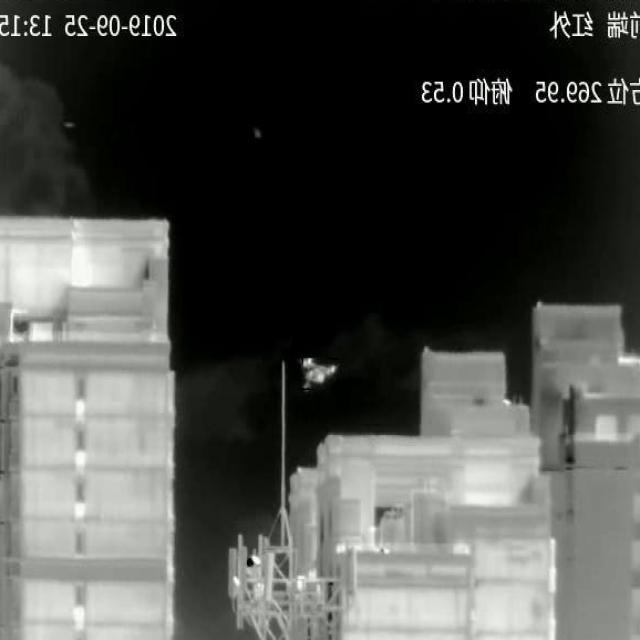drone: (302, 358, 338, 389)
